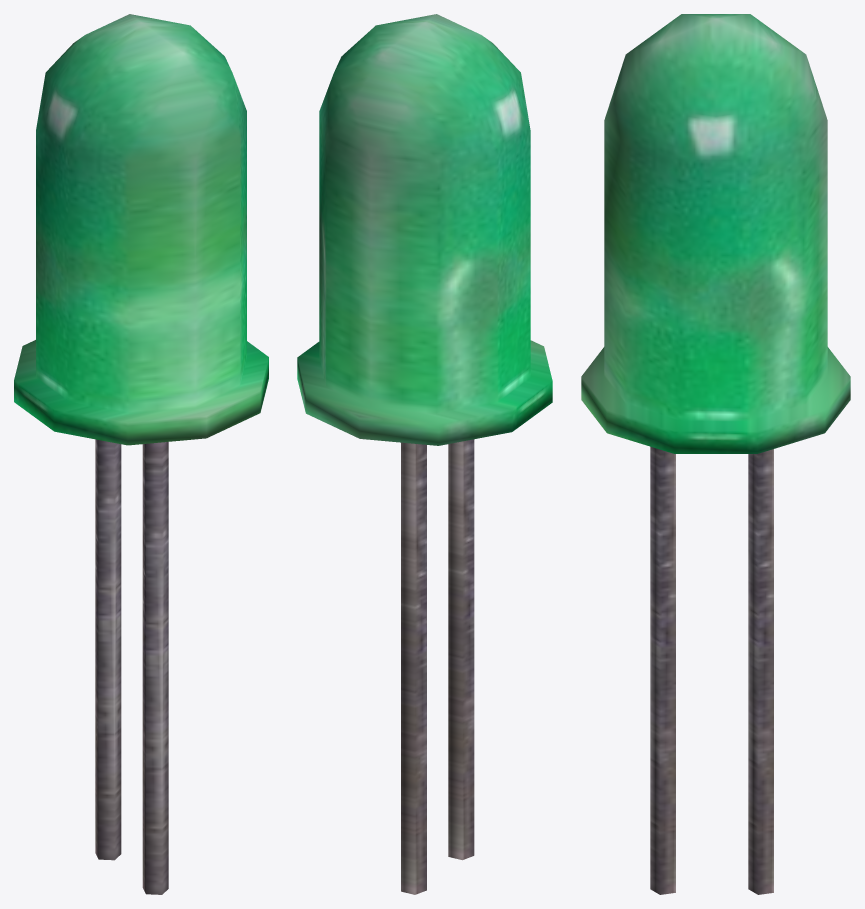
Rendered from led_green.fbx.
The picture shows the model from 3 angles, left to right: view 1: azimuth 30°, elevation 25°; view 2: azimuth 150°, elevation 25°; view 3: azimuth 270°, elevation 25°; orthographic projection. The views are drawn at different scales.
Visible parts, largest first — view 1: Icosphere.001; view 2: Icosphere.001; view 3: Icosphere.001.
Part boxes in pixels (x1=…): Icosphere.001: x1=14, y1=14, x2=268, y2=894; Icosphere.001: x1=297, y1=14, x2=552, y2=894; Icosphere.001: x1=581, y1=14, x2=850, y2=894.
Bounding box in the file's own units: 29.41 × 111 × 30.92.
